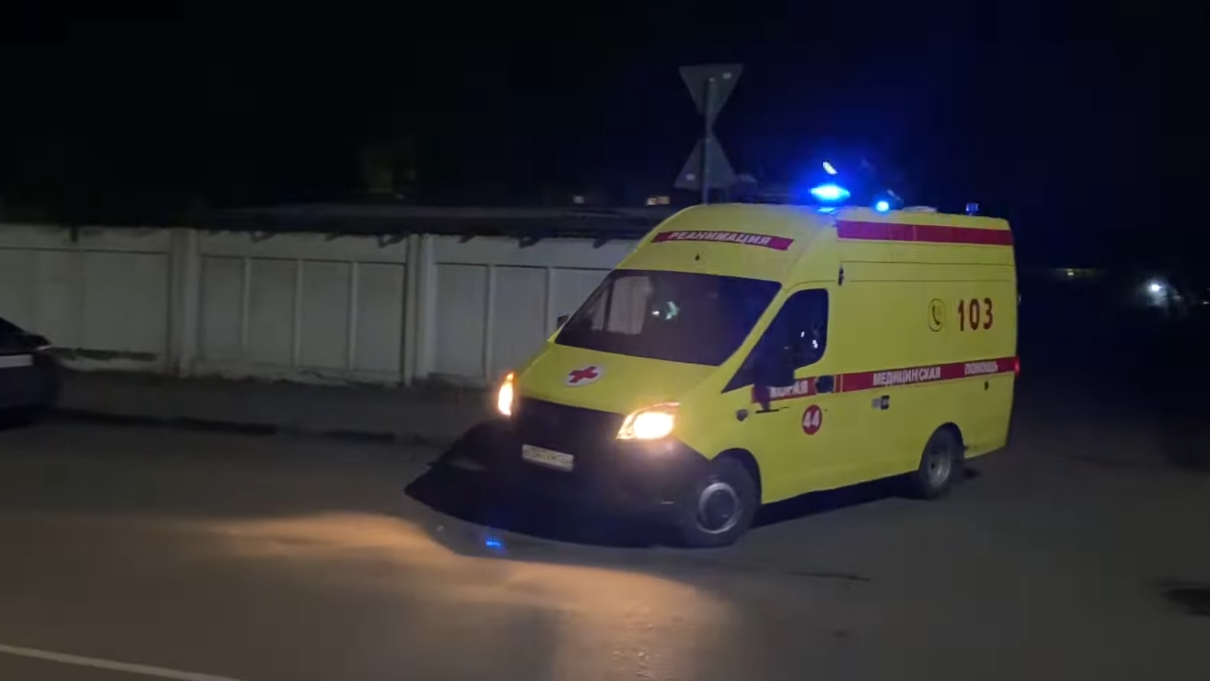intensive care unit: (488, 181, 1020, 546)
